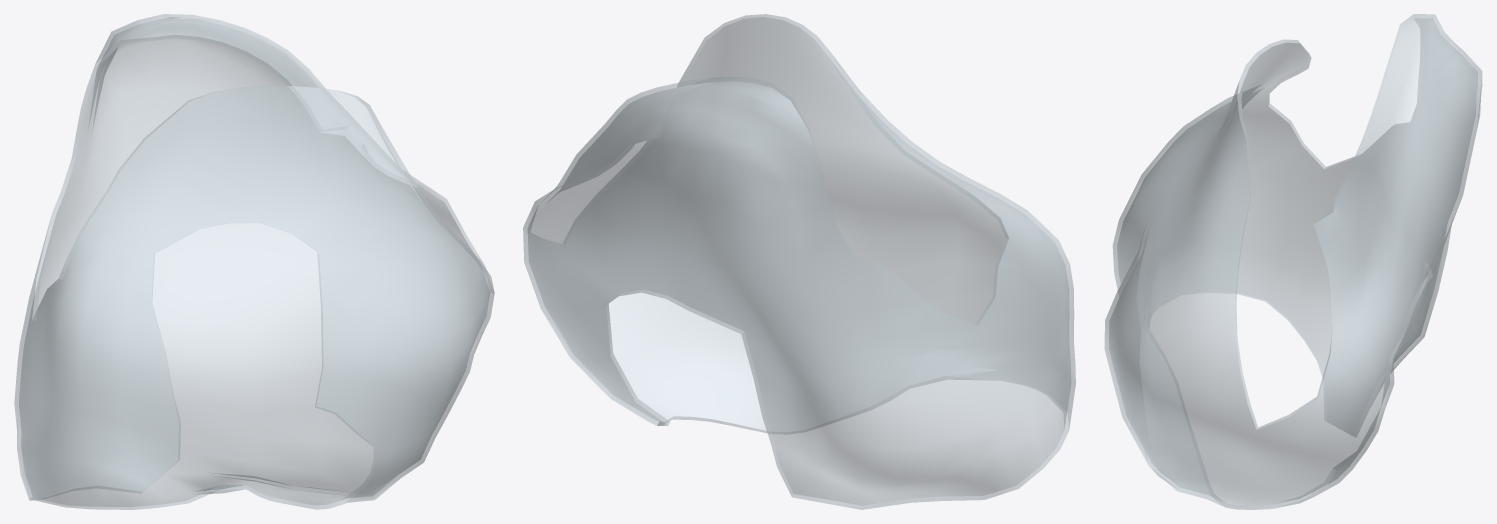
File: capsule-articulaire.glb
The picture shows the model from 3 angles, left to right: view 1: azimuth 30°, elevation 25°; view 2: azimuth 150°, elevation 25°; view 3: azimuth 270°, elevation 25°; orthographic projection. The views are drawn at different scales.
Visible parts, largest first — view 1: capsule-articulaire; view 2: capsule-articulaire; view 3: capsule-articulaire.
Boxes of the visible parts, x1,y1,x2,y2 form: capsule-articulaire: (14,14,494,509); capsule-articulaire: (523,14,1075,509); capsule-articulaire: (1104,14,1482,509).
Bounding box in the file's own units: 0.0611 × 0.0532 × 0.0423.
